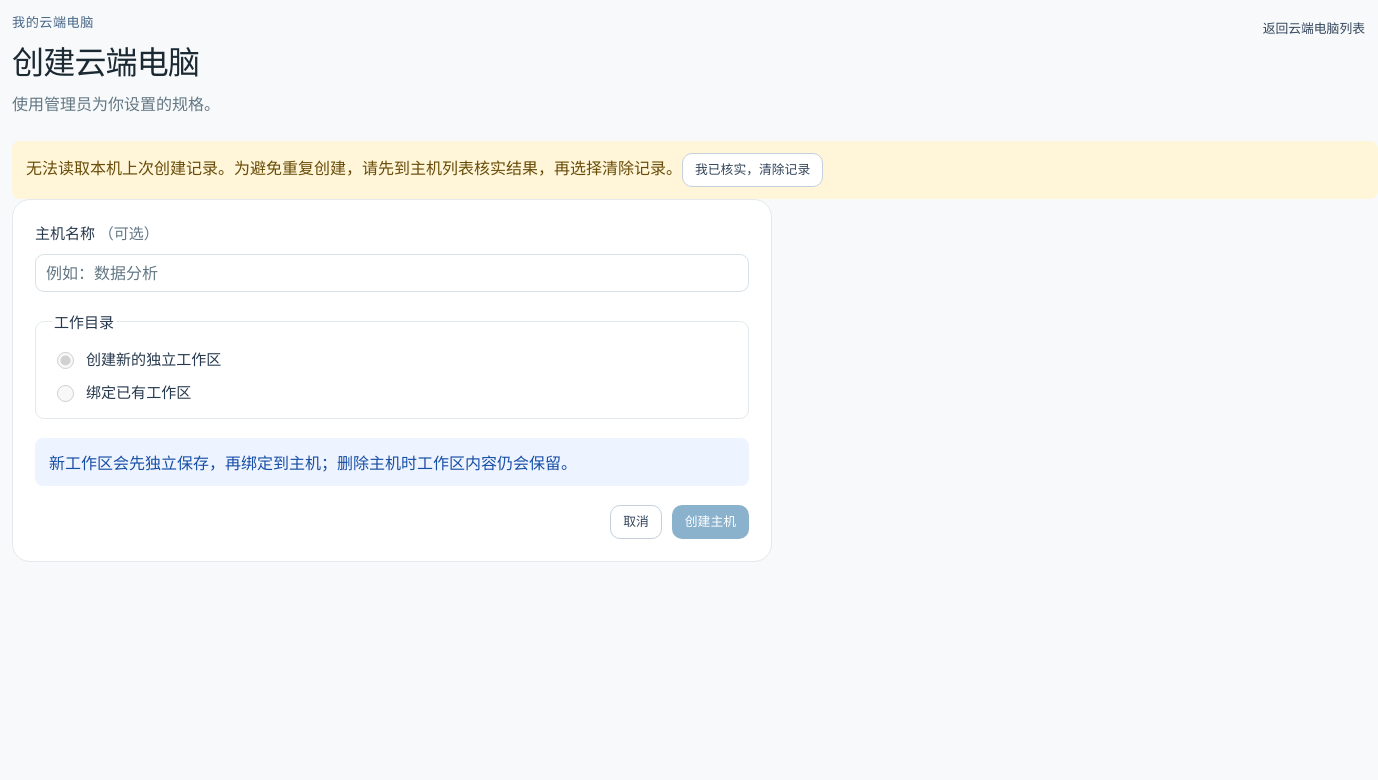
NewHost workspace loading › blocks a new host when the saved recovery record is invalid until the user verifies the host list
This screenshot has width=1378, height=780.
Check: the message shows "无法读取本机上次创建记录", box [26,158,682,178]
Check: the button "创建主机" is disabled, box [672,505,749,539]
Click the button "我已核实，清除记录": click(753, 170) [682,153,823,187]
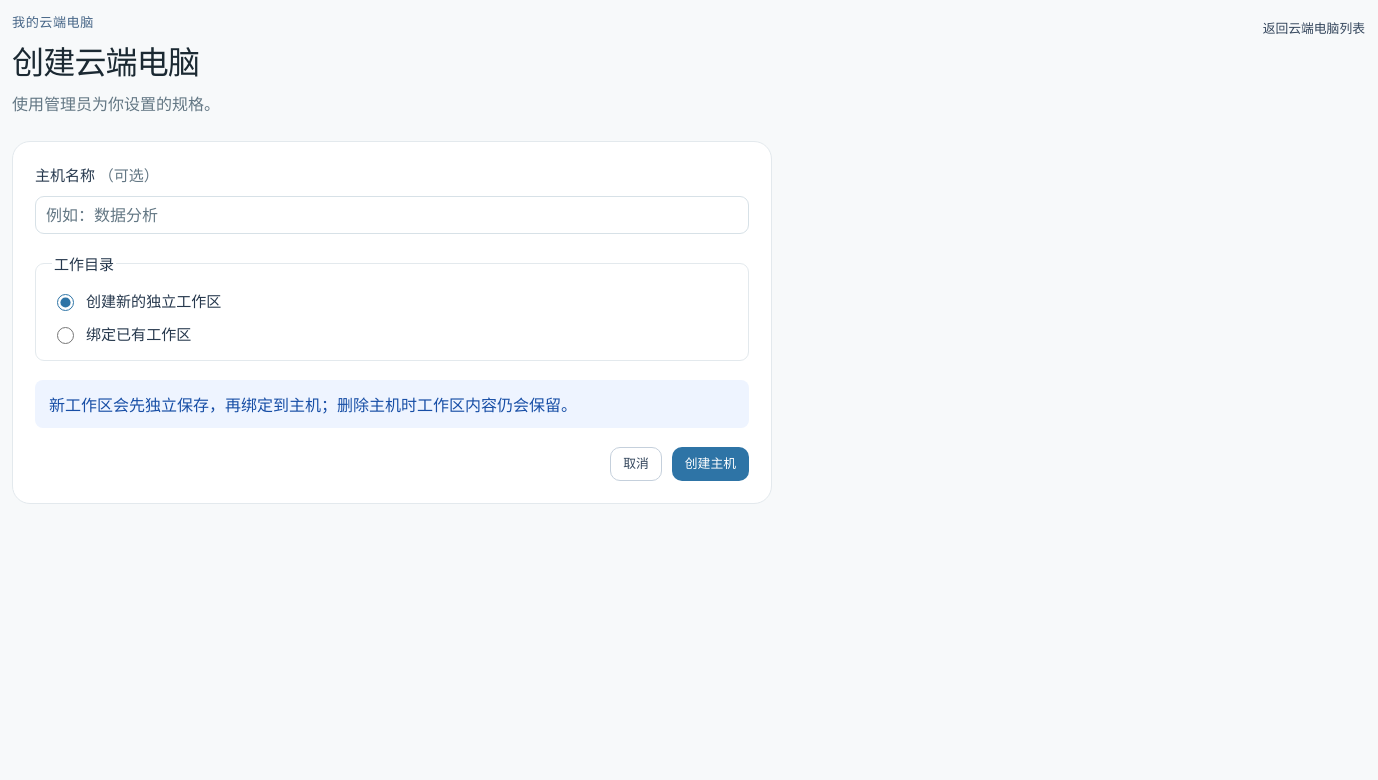
Check: the button "创建主机" is enabled, box [672,447,749,481]
